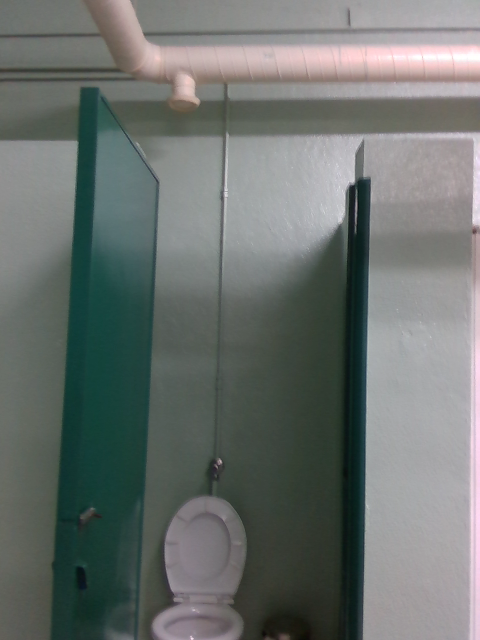open: (46, 87, 166, 639)
